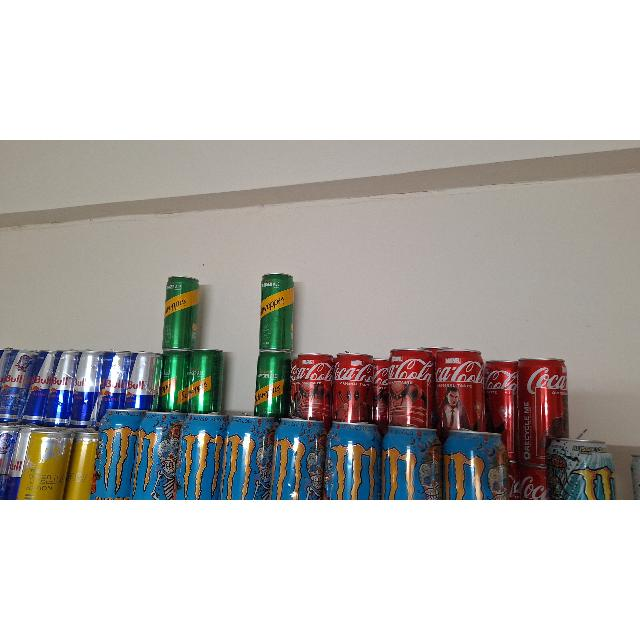Coca Cola: (508, 462, 546, 500)
Coca Cola - Marvel: (389, 348, 433, 428), (435, 353, 483, 425), (334, 354, 376, 420), (296, 353, 330, 419), (484, 363, 518, 429)
Monster Aussie Lemonade: (548, 436, 614, 500), (521, 358, 571, 439)
Monster Mango Loco: (224, 418, 276, 500), (446, 432, 508, 500), (135, 416, 185, 500), (94, 408, 140, 499), (182, 414, 230, 500), (328, 424, 382, 500), (328, 420, 379, 500), (384, 428, 440, 500), (278, 420, 328, 500)
Redbull: (244, 414, 640, 500), (73, 352, 107, 430), (45, 354, 79, 428), (23, 354, 57, 424), (128, 352, 160, 408), (100, 350, 126, 410), (8, 435, 24, 489)
Redbull DanceYourStyle: (0, 353, 32, 419), (2, 428, 12, 494)
Redbull Yellow Edition: (28, 430, 68, 500), (70, 438, 94, 500)
Schweppes: (260, 273, 294, 351), (161, 276, 197, 348), (252, 352, 288, 414), (192, 351, 224, 411), (162, 356, 186, 410)
